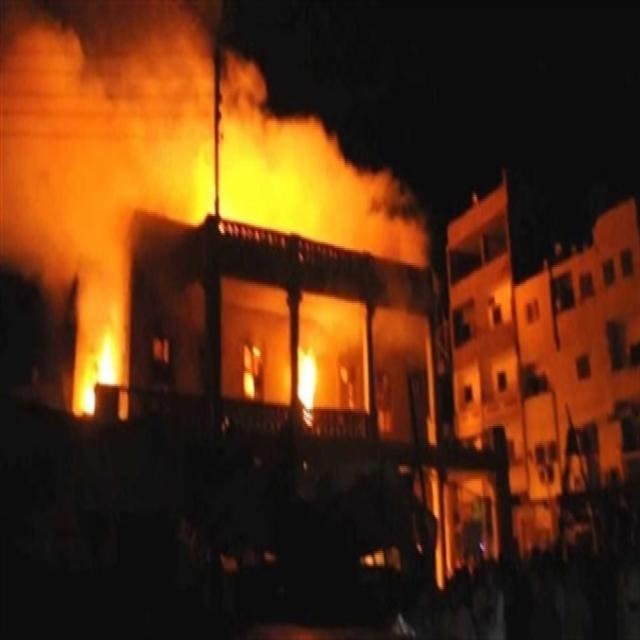Fire: (79, 314, 123, 414), (288, 344, 324, 419)
Smoke: (0, 0, 436, 348)
